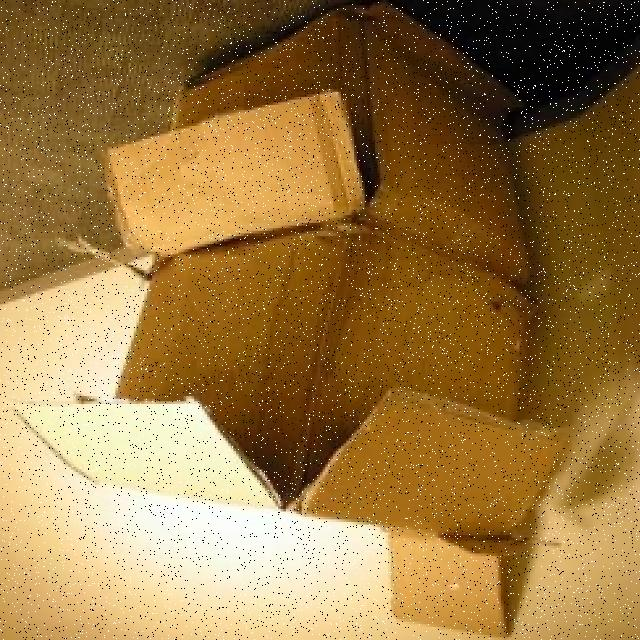box: (110, 235, 522, 607), (128, 24, 516, 287)
